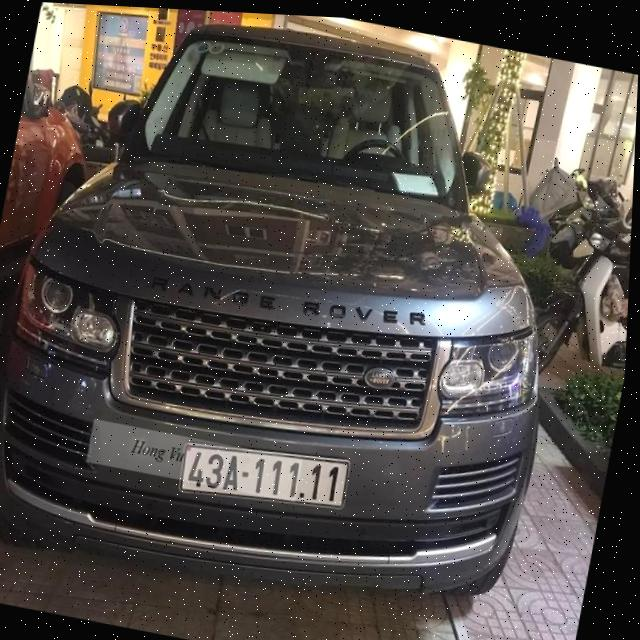car: (0, 0, 613, 640)
plate: (169, 429, 355, 523)
